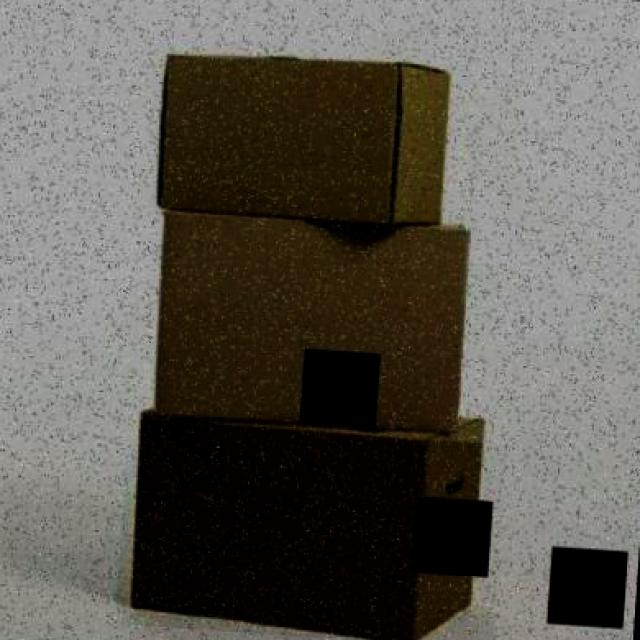box: (112, 213, 530, 445), (115, 418, 507, 640), (140, 31, 468, 236)
